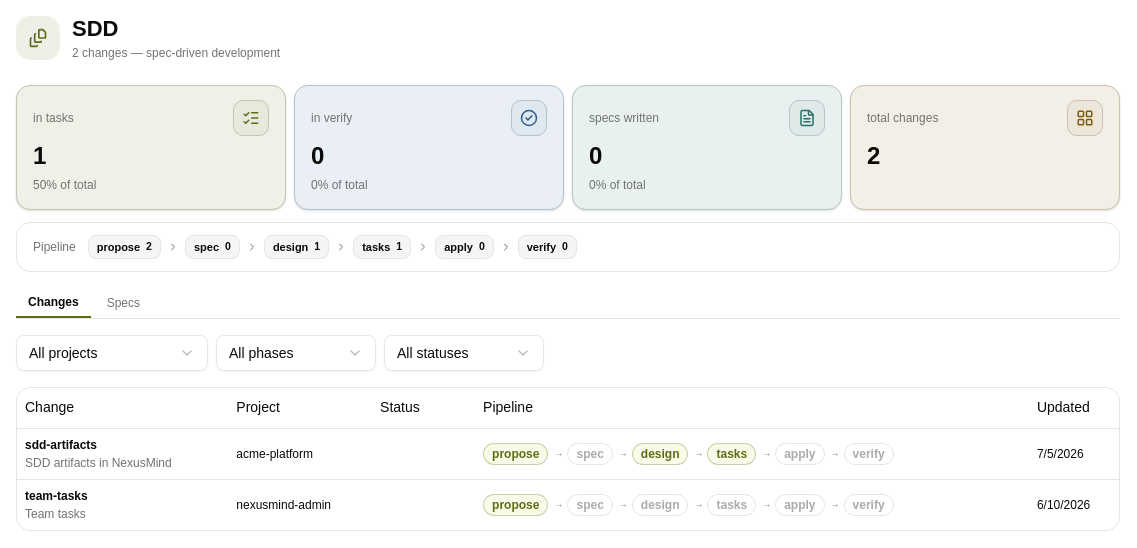
Scenario: Sdd — specs view › sdd_specs_tab_lists_one_row_per_capability_with_its_revision_and_last_merge
Expected: the text "sdd-artifacts" is shown, [25, 438, 97, 452]
Expected: the text "harness-library" is not shown
Click the tab "Specs". click: (123, 303)
box: [95, 289, 152, 317]
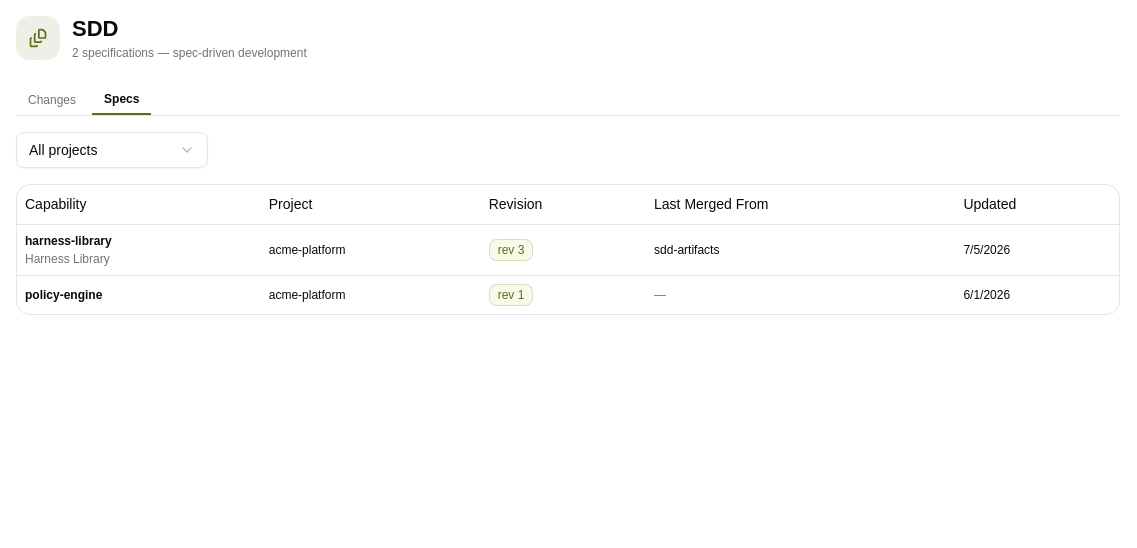
Now the text "harness-library" is shown, box [25, 234, 112, 248]
Now the text "Harness Library" is shown, box [25, 252, 110, 266]
Now the text "rev 3" is shown, box [489, 239, 533, 261]
